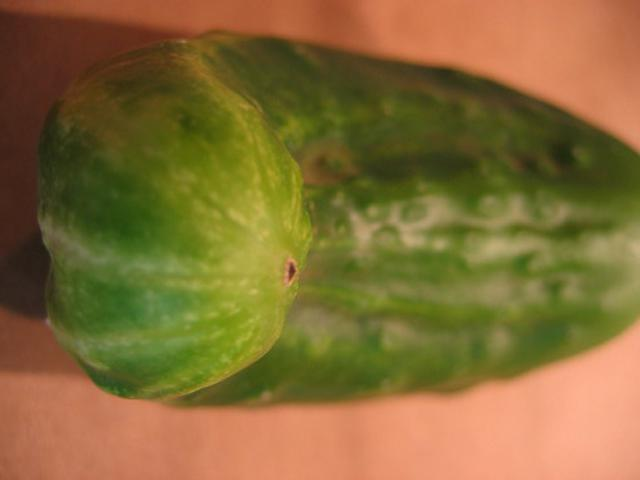cucumber: (38, 33, 637, 410)
